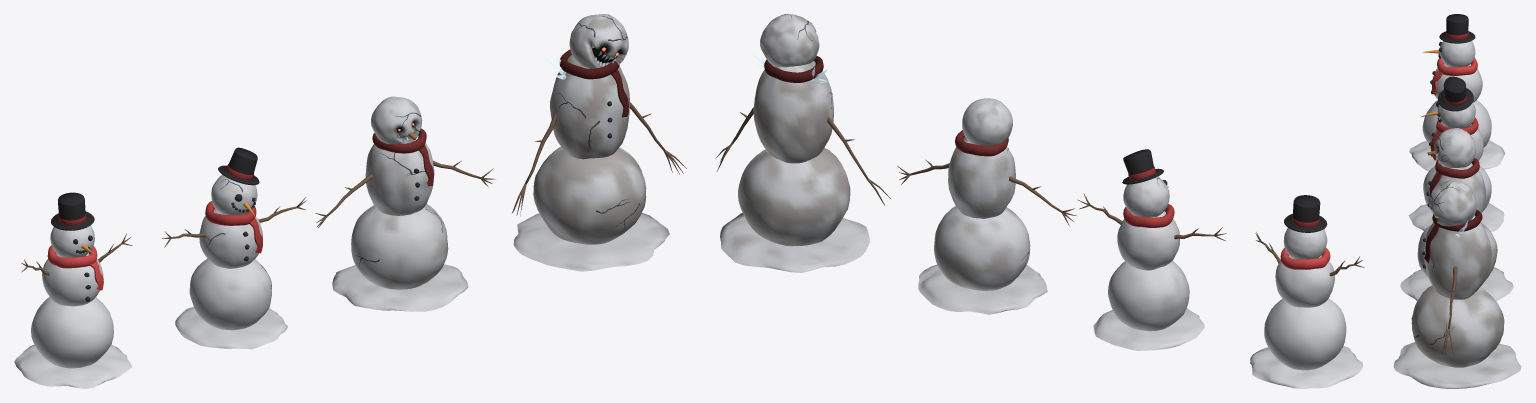
3 views of the same model, side by side, from view 1: azimuth 30°, elevation 25°; view 2: azimuth 150°, elevation 25°; view 3: azimuth 270°, elevation 25° (orthographic). The views are drawn at different scales.
Parts seen in each view (by area): view 1: F4_Corp_Jos, F3_Corp_Jos, F4_Corp_Mijloc, F4_Zapada_Baza, F2_Corp_Jos, F1_Corp_Jos, F3_Zapada_Baza, F3_Corp_Mijloc, F1_Zapada_Baza, F2_Zapada_Baza, F4_Cap, F2_Corp_Mijloc (+10 smaller); view 2: F4_Corp_Jos, F3_Corp_Jos, F4_Corp_Mijloc, F4_Zapada_Baza, F1_Corp_Jos, F2_Corp_Jos, F3_Corp_Mijloc, F3_Zapada_Baza, F1_Zapada_Baza, F2_Zapada_Baza, F4_Cap, F2_Corp_Mijloc (+10 smaller); view 3: F4_Corp_Jos, F4_Corp_Mijloc, F4_Zapada_Baza, F4_Cap, F3_Cap, F3_Zapada_Baza, F1_Zapada_Baza, F1_Corp_Jos, F2_Zapada_Baza, F2_Joben, F1_Cap, F3_Corp_Mijloc (+14 smaller).
Part boxes in pixels (x1,y1,x2,y2): F4_Corp_Jos: (533, 147, 646, 244); F3_Corp_Jos: (351, 204, 448, 289); F4_Corp_Mijloc: (550, 55, 629, 159); F4_Zapada_Baza: (513, 213, 669, 271); F2_Corp_Jos: (189, 258, 271, 330); F1_Corp_Jos: (31, 297, 113, 368); F3_Zapada_Baza: (332, 264, 468, 311); F3_Corp_Mijloc: (365, 135, 434, 215); F1_Zapada_Baza: (14, 344, 132, 388); F2_Zapada_Baza: (175, 307, 287, 349); F4_Cap: (569, 14, 628, 68); F2_Corp_Mijloc: (199, 208, 262, 268); F4_Corp_Jos: (738, 148, 850, 246); F3_Corp_Jos: (934, 206, 1029, 290); F4_Corp_Mijloc: (753, 61, 833, 163); F4_Zapada_Baza: (720, 213, 870, 272); F1_Corp_Jos: (1264, 298, 1346, 370); F2_Corp_Jos: (1107, 261, 1189, 331); F3_Corp_Mijloc: (948, 137, 1015, 218); F3_Zapada_Baza: (918, 265, 1047, 314); F1_Zapada_Baza: (1250, 346, 1363, 388); F2_Zapada_Baza: (1093, 308, 1204, 350); F4_Cap: (760, 14, 819, 67); F2_Corp_Mijloc: (1117, 211, 1179, 270); F4_Corp_Jos: (1411, 285, 1504, 367); F4_Corp_Mijloc: (1424, 215, 1491, 299); F4_Zapada_Baza: (1393, 342, 1521, 388); F4_Cap: (1429, 180, 1476, 226); F3_Cap: (1434, 128, 1476, 167); F3_Zapada_Baza: (1400, 267, 1513, 301); F1_Zapada_Baza: (1409, 140, 1505, 171); F1_Corp_Jos: (1422, 100, 1491, 147); F2_Zapada_Baza: (1408, 203, 1504, 231); F2_Joben: (1438, 76, 1473, 111); F1_Cap: (1439, 41, 1475, 67); F3_Corp_Mijloc: (1429, 163, 1485, 214).
Size of the model in its own units: 31.33 by 10.08 by 6.39.
